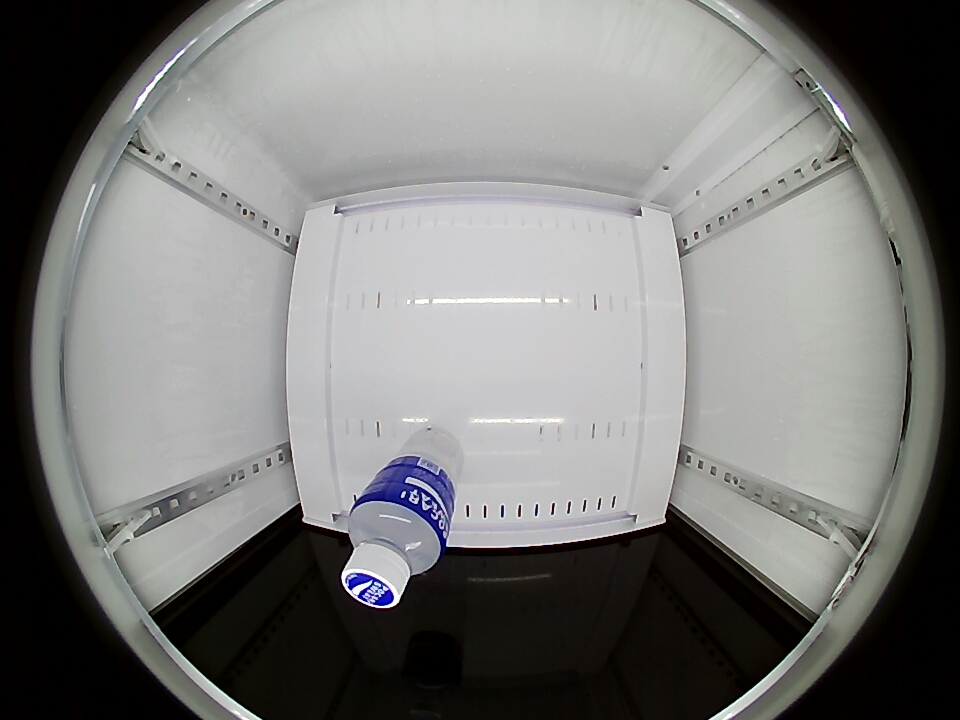baokuangli: (342, 485, 450, 609)
